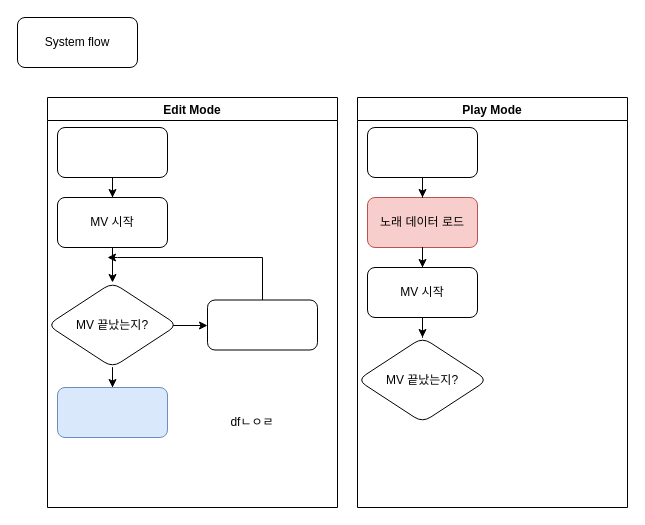
Image size: 645x525. Some labels were removed from this diagram. The shapes that lost their labels are listed below. From the top down, each one's centre as x and y in pixels, then its label:
At [112,152]: "녹화 시작".
At [422,152]: "노래 선택".
At [262,324]: "노트들에 대한 데이터 생성".
At [112,412]: "노래 데이터 저장".
